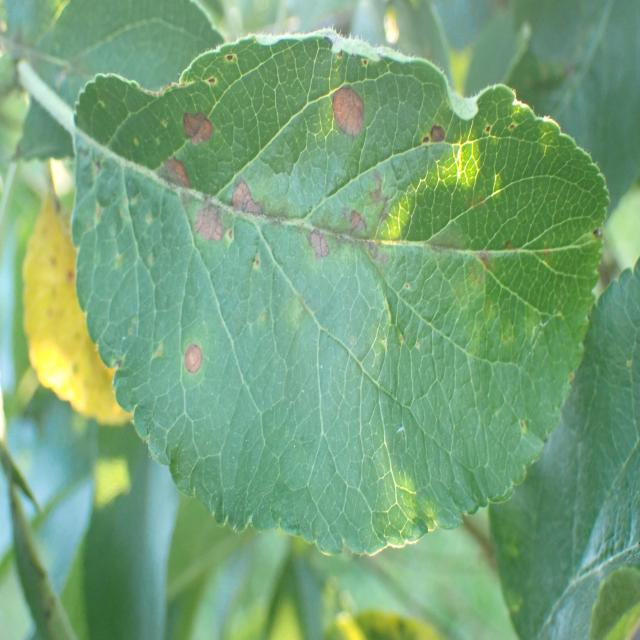frog-eye-leaf-spot: (72, 29, 611, 559)
